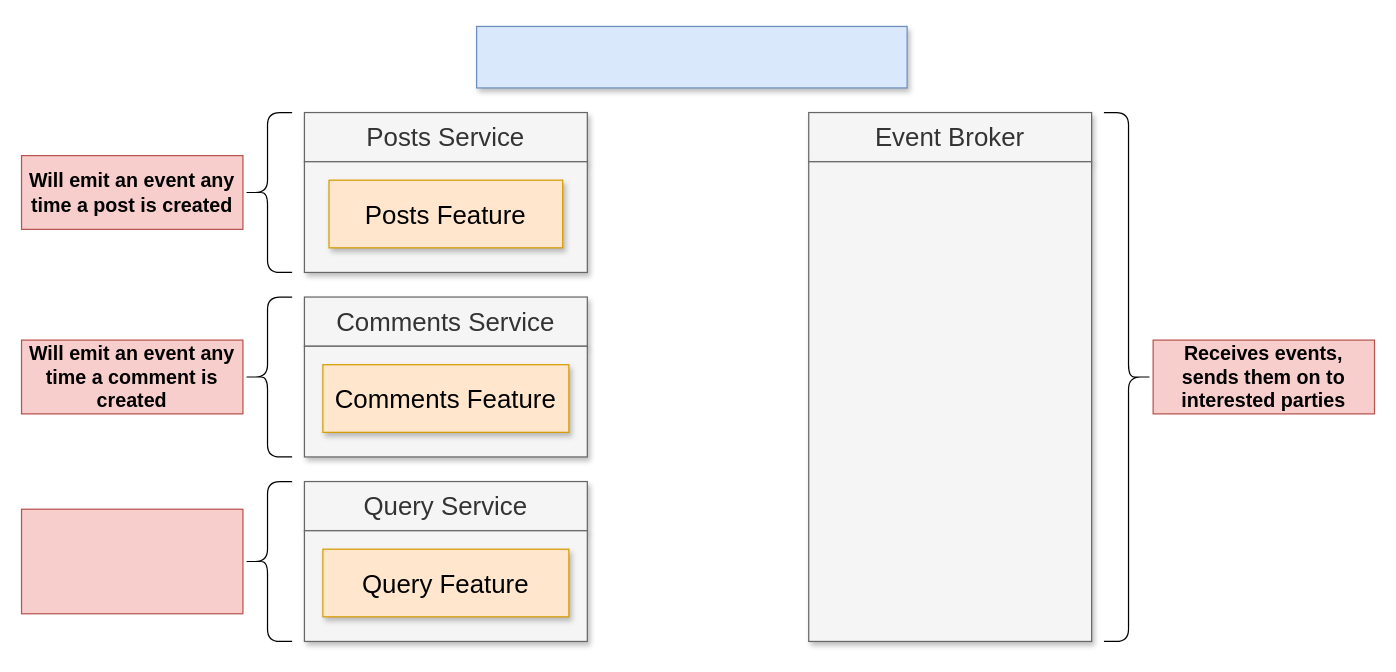
This 1396x672 diagram has some shape labels left out. The shapes that lost their labels are listed below. From the top down, each one's centre as x and y in pixels, then its label:
the point at 692,58: Solution #2 - Async Communication
the point at 131,561: Assembles all of the blogs + comments into an efficient data structure
